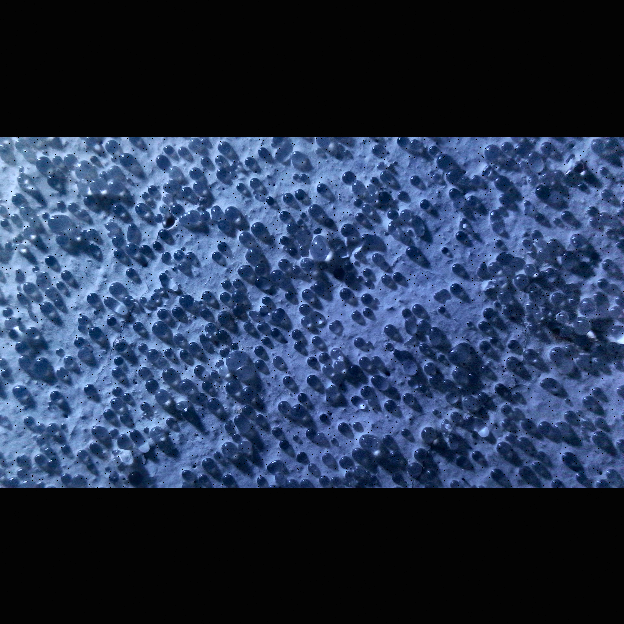GrassBeadSeg: (226, 351, 246, 366), (46, 214, 67, 228), (482, 143, 500, 159), (446, 347, 466, 361), (578, 298, 595, 314), (31, 357, 49, 372), (571, 317, 590, 331), (358, 434, 376, 448), (548, 347, 566, 361), (177, 293, 194, 307), (368, 374, 386, 387), (511, 273, 529, 286), (493, 175, 511, 188), (289, 403, 307, 416), (538, 376, 557, 388), (254, 277, 273, 289), (107, 281, 123, 295), (435, 153, 451, 167), (75, 160, 91, 174), (249, 221, 266, 234), (160, 367, 177, 380), (405, 461, 422, 474), (243, 248, 260, 261), (269, 307, 286, 320), (223, 380, 241, 392), (177, 378, 195, 390), (569, 233, 585, 246), (223, 205, 239, 218), (533, 184, 549, 197), (220, 440, 236, 453), (450, 366, 466, 379), (460, 394, 476, 407), (339, 222, 356, 234), (10, 384, 27, 396), (310, 280, 327, 292), (419, 426, 436, 438), (204, 397, 221, 409), (265, 459, 282, 471), (590, 430, 607, 442), (432, 288, 449, 300), (574, 353, 591, 365), (180, 211, 198, 222), (118, 152, 133, 165), (154, 154, 169, 167), (589, 138, 604, 151), (358, 384, 374, 396), (559, 450, 575, 462), (86, 325, 102, 337), (236, 264, 252, 276), (239, 386, 256, 397), (391, 348, 408, 359), (237, 439, 251, 452), (382, 323, 397, 335), (103, 139, 118, 151), (504, 355, 519, 367), (297, 302, 312, 314), (237, 231, 252, 243), (126, 470, 141, 482), (528, 150, 543, 162), (337, 287, 353, 298), (299, 287, 315, 298), (412, 447, 428, 458), (153, 390, 169, 401), (554, 311, 570, 322), (298, 257, 314, 268), (162, 180, 178, 191), (349, 181, 365, 192), (426, 326, 442, 337), (548, 292, 565, 302), (537, 420, 550, 433), (216, 140, 230, 152), (132, 202, 146, 214), (35, 156, 49, 168), (497, 289, 511, 301), (495, 441, 509, 453), (136, 366, 150, 378), (307, 204, 322, 215), (481, 307, 496, 318), (581, 394, 596, 405), (202, 322, 217, 333), (504, 338, 519, 349), (38, 301, 53, 312), (416, 318, 431, 329), (290, 150, 305, 161), (518, 417, 533, 428), (521, 348, 536, 359), (216, 311, 231, 322), (267, 269, 283, 279), (341, 170, 354, 182), (85, 292, 99, 303), (170, 306, 184, 317), (539, 141, 553, 152), (398, 208, 412, 219), (489, 467, 503, 478), (421, 361, 435, 372), (356, 355, 370, 366), (487, 261, 501, 272), (113, 339, 127, 350), (378, 170, 392, 181), (188, 136, 202, 147), (149, 426, 163, 437), (538, 172, 552, 183), (167, 166, 181, 177), (145, 349, 159, 360), (465, 195, 479, 206), (447, 282, 462, 292), (187, 167, 202, 177), (21, 281, 36, 291), (405, 246, 420, 256), (109, 203, 124, 213), (399, 392, 414, 402), (495, 251, 510, 261), (427, 374, 442, 384), (521, 264, 537, 273), (338, 455, 350, 467), (497, 193, 510, 204), (201, 457, 214, 468), (109, 397, 122, 408), (501, 303, 514, 314), (417, 341, 430, 352), (376, 190, 389, 201), (90, 425, 103, 436), (152, 321, 165, 332), (595, 277, 609, 287), (382, 399, 396, 409), (292, 188, 306, 198), (144, 379, 158, 389), (369, 252, 383, 262), (453, 230, 467, 240), (242, 156, 256, 166), (280, 192, 294, 202), (169, 203, 183, 213), (410, 303, 424, 313), (476, 320, 490, 330), (62, 153, 76, 163), (186, 341, 200, 351), (109, 366, 123, 376), (24, 325, 38, 335), (284, 222, 298, 232), (220, 473, 234, 483), (447, 410, 461, 420), (197, 306, 211, 316), (253, 263, 267, 273), (54, 233, 68, 243), (231, 290, 245, 300), (240, 404, 254, 414), (445, 171, 459, 181), (315, 136, 330, 145), (276, 400, 288, 411), (351, 446, 362, 458), (43, 254, 56, 264), (104, 315, 117, 325), (305, 374, 318, 384), (447, 187, 460, 197), (59, 269, 72, 279), (450, 263, 463, 273), (417, 198, 430, 208), (200, 290, 213, 300), (179, 185, 192, 195), (252, 345, 265, 355), (45, 174, 58, 184), (124, 243, 137, 253), (214, 168, 227, 178), (108, 164, 121, 174), (110, 234, 123, 244), (15, 453, 28, 463), (517, 464, 530, 474), (258, 304, 271, 314), (515, 435, 528, 445), (72, 336, 86, 345), (82, 195, 96, 204), (267, 327, 281, 336), (191, 181, 205, 190), (594, 478, 608, 487), (590, 291, 604, 300), (60, 472, 71, 483), (315, 182, 326, 193), (344, 273, 355, 284), (332, 359, 343, 370), (256, 146, 268, 156), (82, 383, 94, 393), (218, 291, 230, 301), (391, 271, 403, 281), (277, 258, 289, 268), (336, 421, 348, 431), (295, 451, 307, 461), (573, 471, 585, 481), (526, 322, 538, 332), (21, 226, 33, 236), (171, 332, 183, 342), (10, 193, 22, 203), (277, 210, 290, 219), (500, 141, 513, 150), (210, 250, 223, 259), (247, 177, 260, 186), (252, 359, 265, 368), (278, 235, 291, 244), (54, 366, 67, 375), (426, 145, 439, 154), (380, 434, 393, 443), (15, 467, 28, 476), (492, 382, 505, 391), (546, 238, 559, 247), (395, 136, 408, 145), (524, 301, 537, 310), (477, 340, 490, 349), (390, 472, 403, 481), (299, 315, 312, 324), (560, 250, 573, 259), (289, 329, 303, 337), (255, 322, 269, 330), (597, 212, 611, 220), (215, 220, 229, 228), (601, 258, 612, 268), (332, 268, 343, 278), (360, 293, 371, 303), (311, 334, 321, 345), (352, 336, 362, 347), (330, 347, 341, 357), (348, 364, 359, 374), (312, 240, 322, 251), (216, 240, 228, 249), (131, 321, 143, 330), (408, 175, 420, 184), (157, 229, 169, 238), (385, 209, 397, 218), (49, 390, 61, 399), (559, 210, 571, 219), (361, 307, 373, 316), (22, 415, 34, 424), (156, 308, 168, 317), (102, 408, 114, 417), (320, 452, 332, 461), (62, 355, 74, 364), (600, 188, 612, 197), (396, 190, 408, 199), (361, 204, 373, 213), (241, 321, 253, 330), (164, 416, 176, 425), (289, 264, 301, 273), (292, 340, 304, 349), (108, 181, 120, 190), (280, 375, 293, 383), (585, 206, 598, 214), (213, 155, 226, 163), (122, 296, 135, 304), (486, 336, 499, 344), (278, 439, 288, 449), (318, 352, 328, 362), (350, 394, 360, 404), (296, 392, 306, 402), (263, 195, 274, 204), (499, 404, 510, 413), (112, 248, 123, 257), (350, 310, 361, 319), (271, 426, 282, 435), (304, 428, 315, 437), (6, 328, 17, 337), (199, 210, 210, 219), (527, 175, 538, 184), (161, 193, 172, 202), (14, 291, 25, 300), (387, 222, 398, 231), (216, 328, 227, 337), (107, 472, 118, 481), (86, 228, 97, 237), (75, 235, 86, 244), (162, 144, 173, 153), (260, 295, 272, 303), (0, 307, 12, 315), (110, 386, 122, 394), (531, 212, 543, 220), (271, 355, 283, 363), (199, 156, 211, 164), (520, 238, 532, 246), (590, 386, 602, 394), (352, 250, 364, 258), (408, 139, 420, 147), (50, 155, 62, 163), (102, 296, 114, 304), (428, 171, 440, 179), (509, 391, 521, 399), (173, 250, 183, 259), (370, 355, 380, 364), (320, 363, 330, 372), (562, 409, 572, 418), (553, 421, 563, 430), (551, 478, 561, 487), (318, 475, 328, 484), (76, 449, 86, 458), (73, 473, 83, 482), (34, 453, 44, 462), (119, 412, 129, 421), (139, 401, 149, 410), (193, 365, 203, 374), (14, 341, 24, 350), (128, 429, 138, 438), (117, 433, 126, 443), (492, 238, 503, 246), (597, 166, 608, 174), (318, 412, 329, 420), (353, 212, 364, 220), (67, 202, 78, 210), (351, 421, 362, 429), (253, 413, 264, 421), (306, 356, 317, 364), (59, 444, 70, 452), (592, 416, 603, 424), (286, 246, 297, 254), (604, 468, 615, 476), (470, 175, 481, 183), (515, 143, 526, 151), (42, 286, 54, 293), (580, 416, 589, 425), (234, 415, 243, 424), (181, 469, 190, 478), (47, 422, 56, 431), (201, 381, 210, 390), (79, 346, 88, 355), (220, 279, 230, 287), (588, 217, 598, 225), (615, 384, 623, 394), (260, 336, 271, 343), (138, 245, 149, 252), (228, 341, 239, 348), (8, 213, 19, 220), (4, 317, 15, 324), (527, 249, 536, 257), (389, 450, 398, 458), (531, 461, 540, 469), (0, 368, 9, 376), (18, 355, 27, 363), (402, 307, 410, 316), (610, 326, 619, 334), (614, 296, 623, 304), (544, 267, 553, 275), (527, 289, 536, 297), (534, 310, 543, 318), (436, 305, 446, 312), (54, 280, 64, 287), (66, 226, 76, 233), (615, 438, 623, 446), (615, 239, 623, 247), (158, 203, 166, 211), (501, 418, 509, 426), (448, 432, 456, 440), (425, 469, 433, 477), (449, 479, 457, 487), (536, 450, 544, 458), (471, 451, 479, 459), (455, 456, 463, 464), (352, 464, 360, 472), (256, 475, 264, 483), (198, 473, 206, 481), (88, 441, 96, 449), (86, 460, 94, 468), (48, 458, 56, 466), (8, 476, 16, 484), (164, 348, 172, 356), (157, 357, 165, 365), (138, 343, 146, 351), (113, 356, 121, 364), (138, 295, 146, 303), (158, 272, 166, 280), (177, 261, 185, 269), (185, 251, 193, 259), (161, 251, 169, 259), (89, 155, 97, 163), (153, 213, 161, 221), (127, 222, 135, 230), (147, 184, 155, 192), (177, 146, 185, 154), (235, 182, 243, 190), (362, 267, 370, 275), (343, 262, 351, 270), (404, 317, 412, 325), (476, 391, 484, 399), (532, 358, 540, 366), (564, 344, 572, 352), (608, 342, 616, 350), (609, 306, 617, 314), (615, 208, 623, 216), (505, 157, 513, 165), (78, 315, 86, 323), (439, 246, 448, 253), (3, 241, 12, 248), (330, 476, 338, 483), (300, 478, 308, 485), (286, 479, 294, 486), (307, 463, 315, 470), (109, 428, 117, 435), (122, 393, 130, 400), (183, 407, 191, 414), (176, 401, 184, 408), (125, 267, 133, 274), (152, 241, 160, 248), (78, 209, 86, 216), (140, 191, 148, 198), (298, 172, 305, 180), (352, 199, 360, 206), (381, 274, 388, 282), (284, 291, 292, 298), (457, 384, 464, 392), (538, 248, 545, 256), (476, 265, 483, 273), (604, 228, 611, 236), (577, 182, 584, 190), (580, 169, 587, 177), (567, 168, 574, 176), (518, 160, 525, 168), (531, 230, 539, 237), (489, 210, 496, 218), (0, 218, 7, 225), (401, 428, 408, 435), (210, 369, 217, 376), (218, 366, 225, 373), (215, 359, 222, 366), (179, 350, 186, 357), (211, 206, 218, 213), (328, 322, 335, 329), (328, 384, 335, 391), (219, 348, 226, 355), (233, 279, 240, 286), (480, 365, 487, 372), (442, 379, 449, 386), (437, 354, 444, 361), (419, 384, 426, 391), (407, 377, 414, 384), (569, 297, 576, 304), (554, 170, 561, 177), (298, 211, 306, 217), (290, 173, 298, 179), (213, 450, 219, 458), (369, 176, 376, 182), (367, 192, 374, 198), (360, 233, 367, 239), (363, 278, 370, 284), (330, 436, 336, 442), (291, 434, 297, 440), (231, 433, 237, 439), (37, 480, 43, 486), (36, 422, 42, 428), (366, 183, 372, 189), (372, 146, 378, 152), (355, 275, 361, 281), (467, 372, 473, 378), (593, 358, 599, 364), (552, 217, 558, 223), (497, 206, 503, 212), (534, 239, 540, 245), (505, 433, 512, 438), (316, 432, 321, 438), (60, 422, 65, 428), (45, 447, 51, 452), (55, 347, 61, 352), (198, 332, 203, 338), (157, 286, 163, 291), (155, 299, 161, 304), (104, 222, 109, 228), (91, 179, 96, 185), (18, 164, 23, 170), (17, 174, 22, 180), (41, 149, 47, 154), (15, 139, 21, 144), (54, 298, 59, 304), (296, 218, 302, 223), (384, 342, 390, 347), (248, 310, 253, 316), (233, 305, 238, 311), (486, 360, 492, 365), (364, 469, 369, 474), (223, 422, 228, 427), (143, 426, 148, 431), (23, 479, 28, 484), (208, 335, 213, 340), (110, 155, 115, 160), (42, 212, 47, 217), (12, 236, 17, 241), (29, 215, 34, 220), (24, 148, 29, 153), (32, 266, 37, 271), (353, 260, 358, 265), (298, 245, 303, 250), (432, 408, 437, 413), (613, 359, 618, 364), (491, 221, 496, 226), (482, 169, 487, 174), (485, 164, 490, 169), (93, 308, 98, 313), (435, 190, 440, 195), (392, 161, 397, 166), (564, 397, 568, 402), (575, 409, 580, 413), (465, 416, 470, 420), (369, 475, 374, 479), (0, 143, 4, 148), (270, 141, 274, 146), (343, 149, 348, 153), (387, 163, 392, 167), (523, 200, 528, 204), (459, 218, 464, 222), (406, 229, 411, 233), (512, 408, 516, 412), (143, 411, 147, 415), (99, 171, 103, 175), (126, 177, 130, 181), (315, 147, 319, 151), (376, 163, 380, 167), (440, 422, 444, 425), (442, 418, 446, 421), (115, 449, 118, 453), (112, 457, 116, 460), (123, 451, 126, 455), (199, 196, 203, 199), (373, 297, 376, 301), (409, 336, 413, 339), (442, 431, 445, 434), (227, 418, 230, 421), (47, 405, 50, 408), (33, 433, 36, 436), (164, 269, 167, 272), (172, 266, 175, 269), (180, 246, 183, 249), (107, 231, 110, 234), (110, 220, 113, 223), (89, 243, 92, 246), (42, 271, 45, 274), (76, 192, 79, 195), (57, 200, 60, 203), (15, 268, 18, 271), (196, 206, 199, 209), (229, 171, 232, 174), (232, 159, 235, 162), (235, 162, 238, 165), (236, 159, 239, 162), (254, 194, 257, 197), (366, 341, 369, 344), (407, 339, 410, 342), (467, 322, 470, 325), (81, 230, 84, 233), (153, 288, 156, 291), (147, 299, 150, 302), (48, 400, 51, 402), (32, 437, 35, 439)
